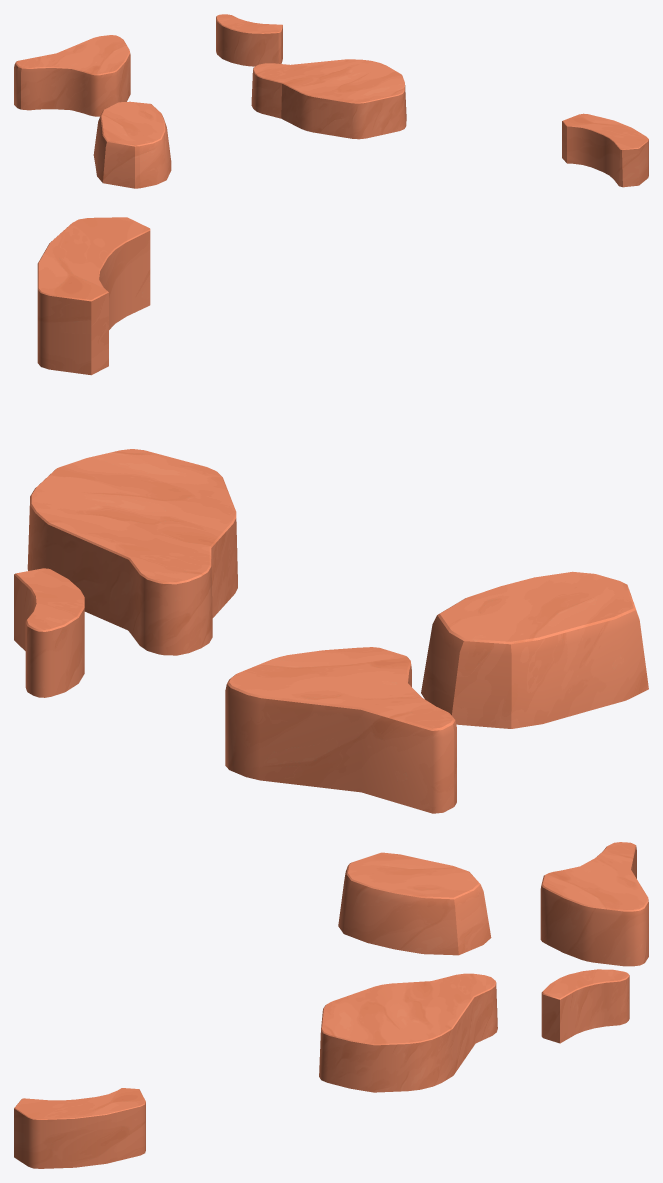
The model's file is Rocks.fbx.
3 views of the same model, one above another, from view 1: azimuth 30°, elevation 25°; view 2: azimuth 150°, elevation 25°; view 3: azimuth 270°, elevation 25° (orthographic). The views are drawn at different scales.
Parts seen in each view (by area): view 1: polySurface4690, polySurface3526, polySurface3970, polySurface4680, polySurface3438; view 2: polySurface4690, polySurface3526, polySurface3970, polySurface4680, polySurface3438; view 3: polySurface4690, polySurface3970, polySurface3526, polySurface4680, polySurface3438.
Boxes of the visible parts, <box> form: polySurface4690: <box>251,59,406,139</box>; polySurface3526: <box>14,35,130,116</box>; polySurface3970: <box>93,101,171,188</box>; polySurface4680: <box>562,113,648,187</box>; polySurface3438: <box>216,14,282,66</box>; polySurface4690: <box>27,449,237,655</box>; polySurface3526: <box>225,647,456,813</box>; polySurface3970: <box>421,571,648,728</box>; polySurface4680: <box>37,217,150,375</box>; polySurface3438: <box>14,568,84,697</box>; polySurface4690: <box>319,973,497,1092</box>; polySurface3970: <box>338,852,491,955</box>; polySurface3526: <box>540,842,648,966</box>; polySurface4680: <box>14,1088,145,1168</box>; polySurface3438: <box>541,969,629,1043</box>.
Size of the model in its own units: 31.25 by 3.48 by 31.18.
